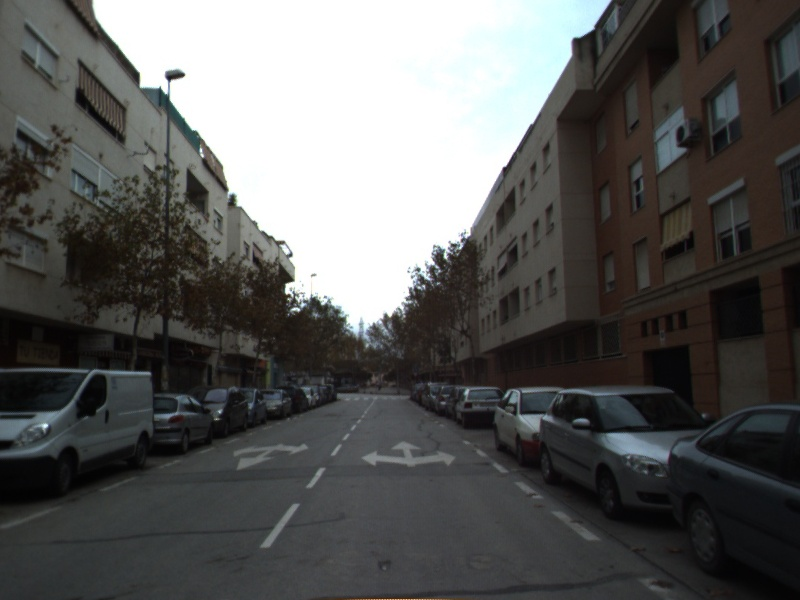STRAIGHT_LEFT_RIGHT: (359, 439, 458, 469)
